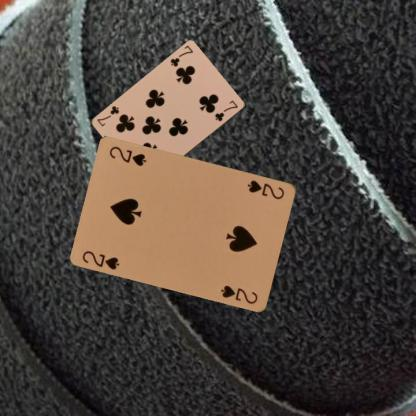2s: (80, 248, 121, 271), (246, 178, 286, 200)
7c: (168, 43, 194, 68)
